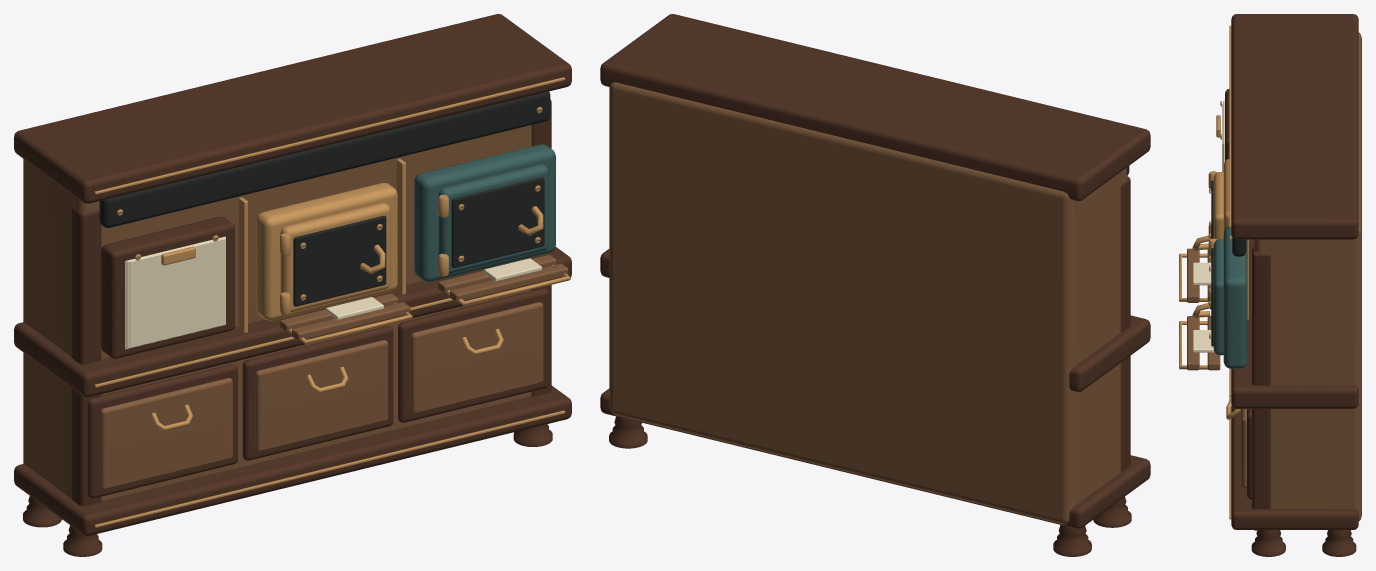
Rendered from airlock.glb.
3 views of the same model, side by side, from view 1: azimuth 30°, elevation 25°; view 2: azimuth 150°, elevation 25°; view 3: azimuth 270°, elevation 25° (orthographic). The views are drawn at different scales.
Visible parts, largest first — view 1: Projecting moulded rail.002, Carcass, Projecting moulded rail, Cast header plate, Fielded walnut panel.002, Fielded walnut panel, Fielded walnut panel.001, Projecting moulded rail.001, Deckled folio leaf.004, Ebonised stile, Dovetailed document tray, Raised moulded face.001 (+23 smaller); view 2: Carcass, Projecting moulded rail.002, Projecting moulded rail, Ebonised stile, Projecting moulded rail.001, Turned pilaster foot.001, Turned pilaster foot.003, Turned pilaster foot; view 3: Projecting moulded rail.002, Carcass, Ebonised stile.001, Projecting moulded rail.001, Projecting moulded rail, Rebated hatch casing.001, Deep-pressed hatch leaf.001, Turned pilaster foot.003, Turned pilaster foot.002, Deep-pressed hatch leaf, Beaded brass inlay.002, Finger-jointed fold-down tray rail.003 (+13 smaller).
Boxes of the visible parts, x1,y1,x2,y2 form: Projecting moulded rail.002: (14,14,571,203); Carcass: (23,125,531,500); Projecting moulded rail: (14,385,571,535); Cast header plate: (99,91,550,227); Fielded walnut panel.002: (410,302,543,414); Fielded walnut panel: (99,378,232,489); Fielded walnut panel.001: (255,340,388,452); Projecting moulded rail.001: (14,246,571,397); Deckled folio leaf.004: (130,239,225,347); Ebonised stile: (71,208,101,506); Dovetailed document tray: (101,216,234,358); Raised moulded face.001: (451,177,544,267); Carcass: (609,82,1126,524); Projecting moulded rail.002: (600,14,1150,201); Projecting moulded rail: (600,388,1150,528); Ebonised stile: (1120,176,1130,472); Projecting moulded rail.001: (600,249,1150,391); Turned pilaster foot.001: (1053,525,1091,556); Turned pilaster foot.003: (609,416,647,448); Turned pilaster foot: (1093,496,1131,527); Projecting moulded rail.002: (1231,14,1358,239); Carcass: (1254,32,1361,521); Ebonised stile.001: (1252,246,1270,530); Projecting moulded rail.001: (1231,239,1358,408); Projecting moulded rail: (1231,406,1358,529); Rebated hatch casing.001: (1223,226,1247,368); Deep-pressed hatch leaf.001: (1213,239,1223,355); Turned pilaster foot.003: (1322,530,1356,556); Turned pilaster foot.002: (1251,530,1285,556); Deep-pressed hatch leaf: (1213,172,1223,239); Beaded brass inlay.002: (1229,25,1231,227); Finger-jointed fold-down tray rail.003: (1187,316,1199,370).
Size of the model in its own units: 2.52 by 1.9 by 0.9328.
